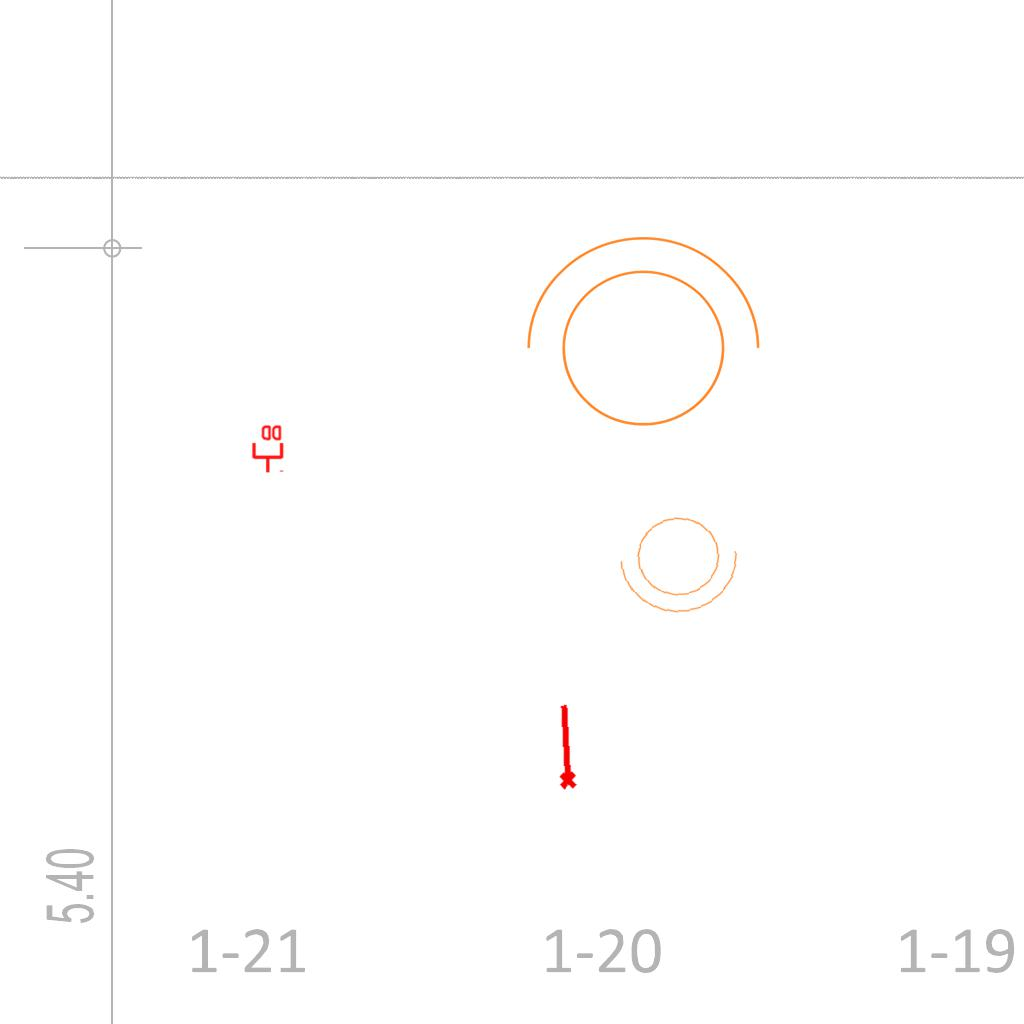ASR_Ansaugoeffnung: (551, 701, 579, 792)
Datenanschluss_zweifach: (250, 423, 284, 474)
Scheinwerfer_fuer_Alarmbeleuchtung: (505, 226, 769, 451), (611, 499, 753, 623)
